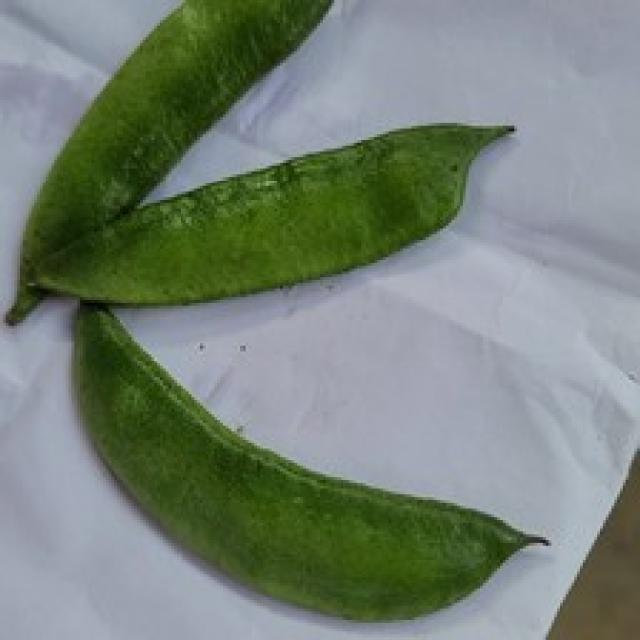Bean: (69, 300, 548, 623), (3, 0, 337, 323), (29, 117, 514, 309)
